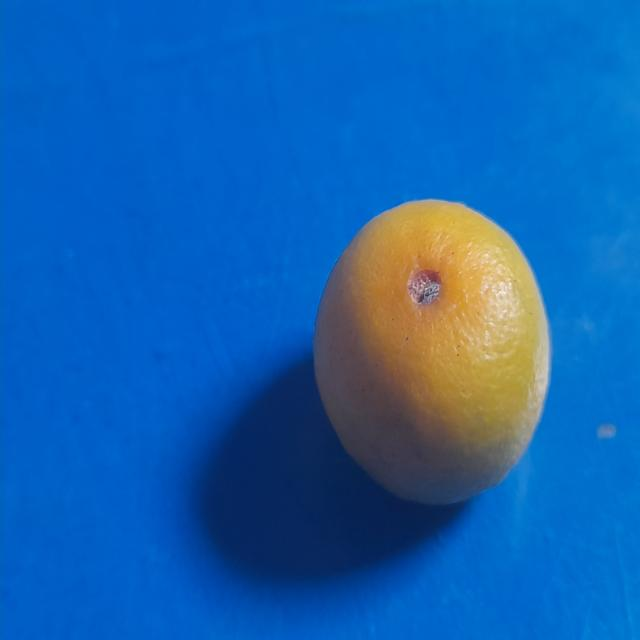greening: (308, 194, 554, 516)
